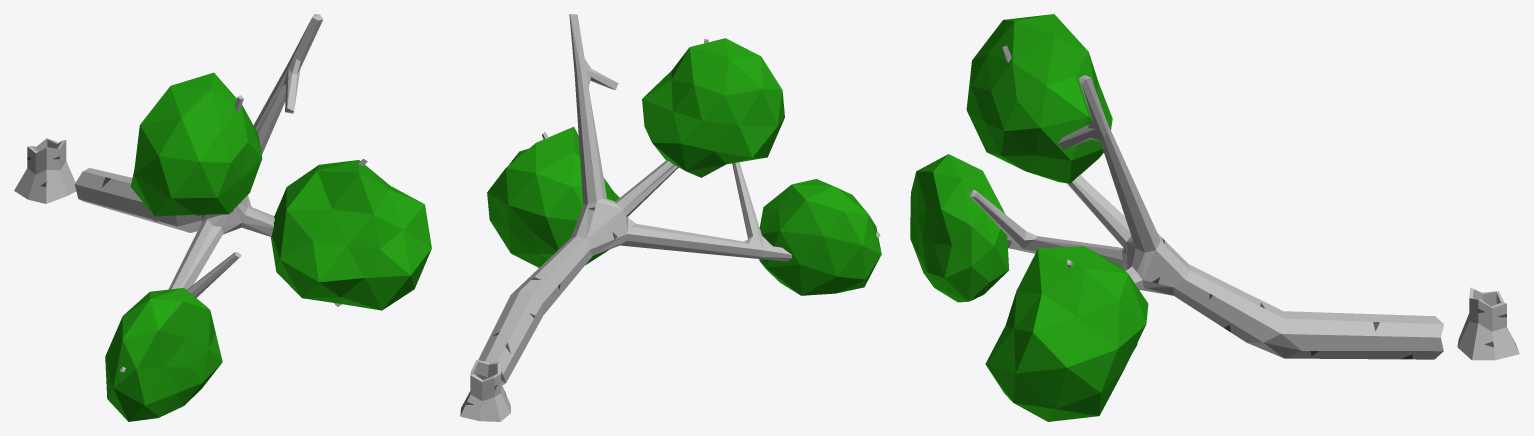
File: Birch_2 Broken.fbx
3 renders of one model, left to right at view 1: azimuth 30°, elevation 25°; view 2: azimuth 150°, elevation 25°; view 3: azimuth 270°, elevation 25°, orthographic. The views are drawn at different scales.
Parts seen in each view (by area): view 1: Birch2Broken_mesh; view 2: Birch2Broken_mesh; view 3: Birch2Broken_mesh.
Part boxes in pixels (bbox=[...]): Birch2Broken_mesh: bbox=[14, 14, 431, 421]; Birch2Broken_mesh: bbox=[460, 14, 881, 421]; Birch2Broken_mesh: bbox=[910, 14, 1519, 421].
Size of the model in its own units: 522 by 407 by 678.
